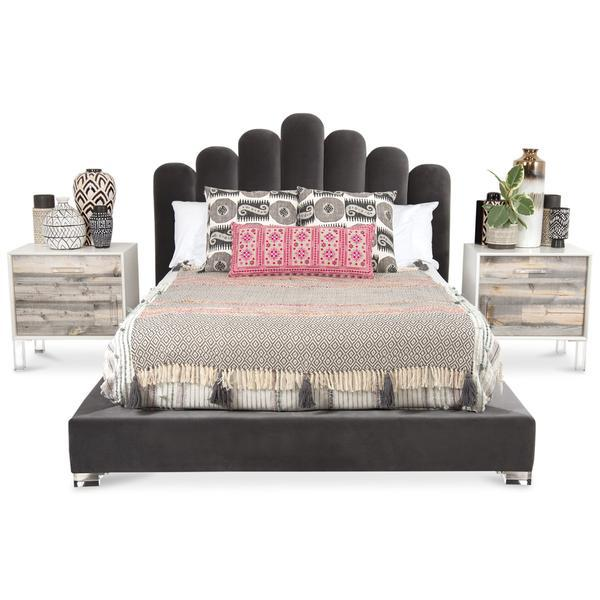bed: (60, 107, 544, 531)
